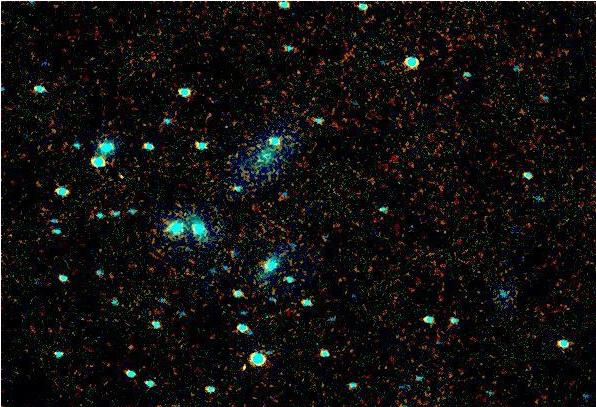star: (105, 160, 135, 190)
